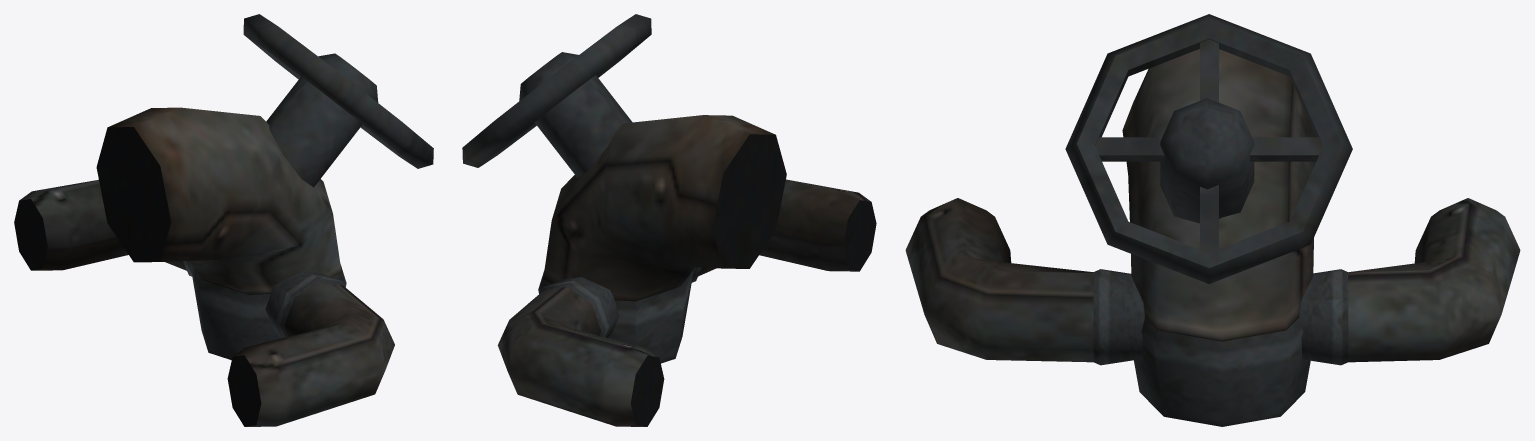
Rendered from SM_EN_1002_guandao11.FBX.
3 views of the same model, side by side, from view 1: azimuth 30°, elevation 25°; view 2: azimuth 150°, elevation 25°; view 3: azimuth 270°, elevation 25° (orthographic). The views are drawn at different scales.
Parts seen in each view (by area): view 1: SM_EN_1002_guandao11; view 2: SM_EN_1002_guandao11; view 3: SM_EN_1002_guandao11.
Boxes of the visible parts, x1=… form: SM_EN_1002_guandao11: x1=14, y1=14, x2=433, y2=426; SM_EN_1002_guandao11: x1=462, y1=14, x2=876, y2=426; SM_EN_1002_guandao11: x1=905, y1=14, x2=1520, y2=426.
Size of the model in its own units: 15.72 by 17.15 by 25.46.
